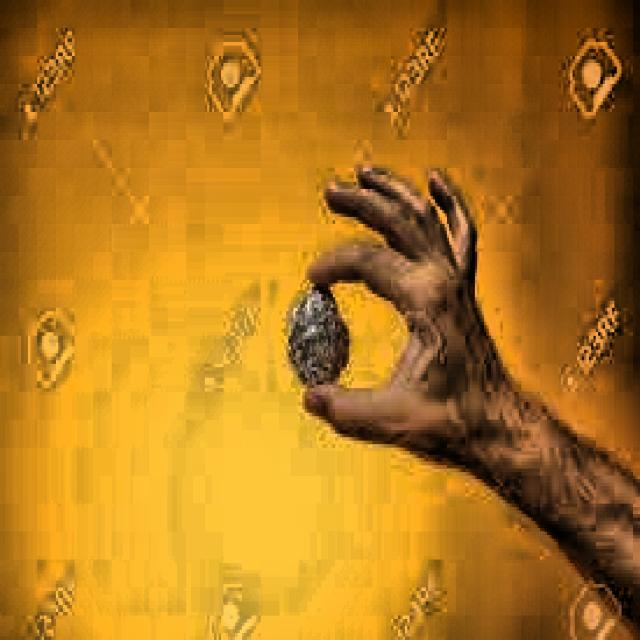Foil: (288, 264, 358, 418)
